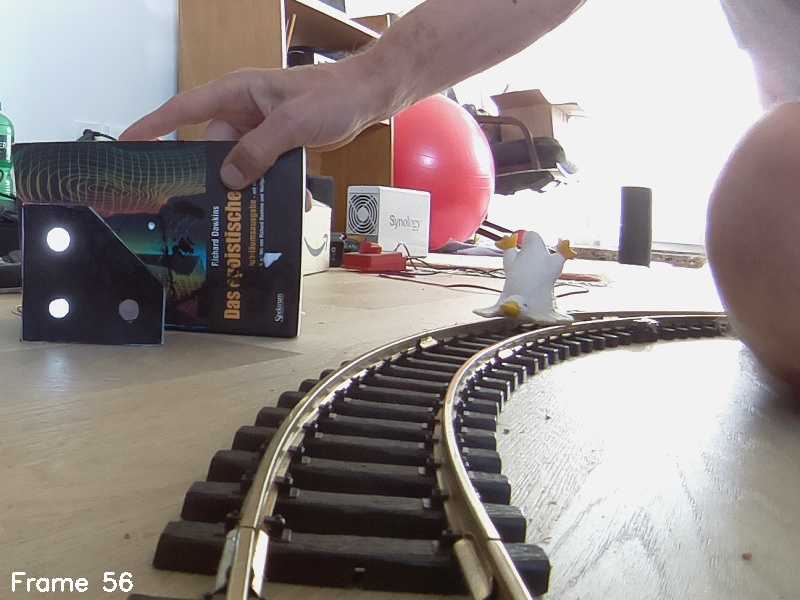Ente: (470, 228, 576, 332)
Fahrt: (17, 201, 163, 349)
